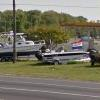Boat: (1, 24, 94, 76)
